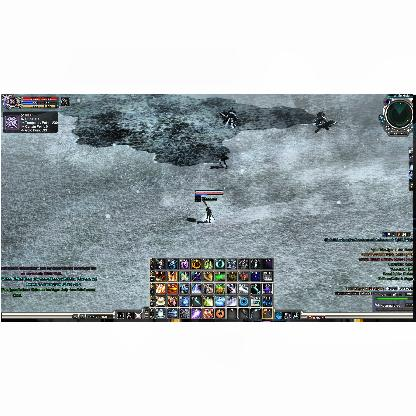caliana: (218, 152, 228, 168)
